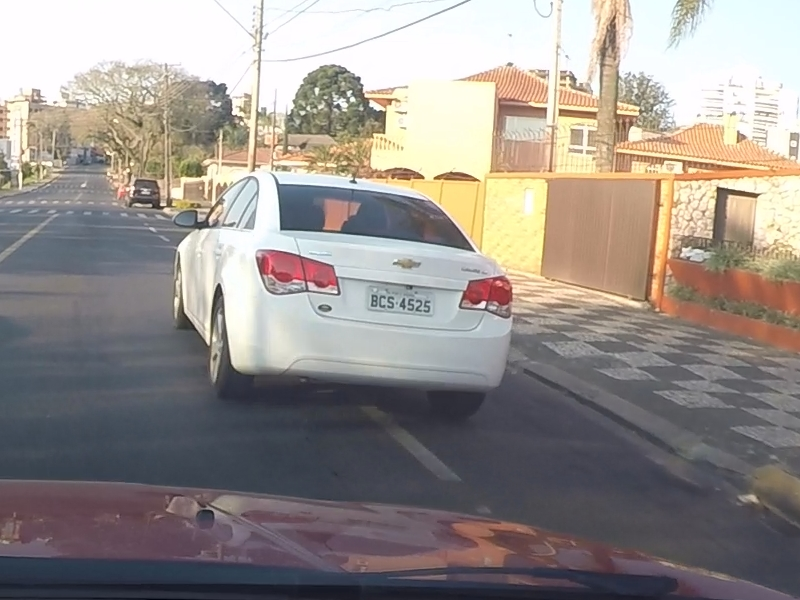placa: (366, 285, 435, 316)
